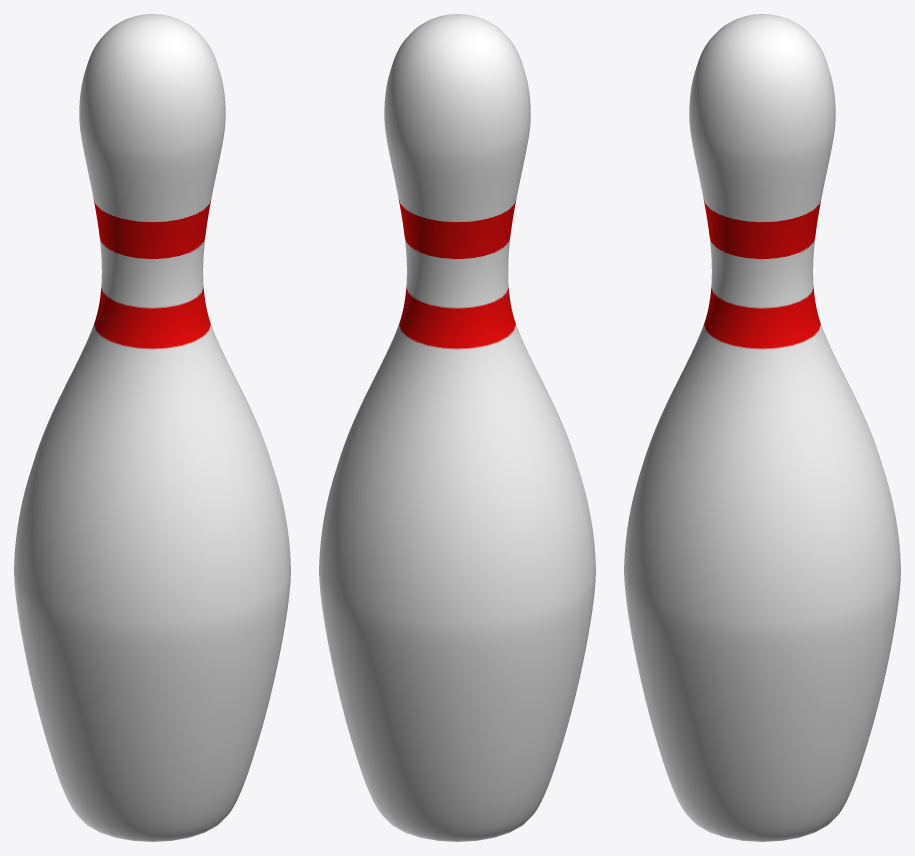
File: bowling_pins.obj
The picture shows the model from 3 angles, left to right: view 1: azimuth 30°, elevation 25°; view 2: azimuth 150°, elevation 25°; view 3: azimuth 270°, elevation 25°; orthographic projection.
Parts seen in each view (by area): view 1: High:Poly:Pin; view 2: High:Poly:Pin; view 3: High:Poly:Pin.
Boxes of the visible parts, x1,y1,x2,y2 form: High:Poly:Pin: [14, 14, 290, 841]; High:Poly:Pin: [319, 14, 595, 841]; High:Poly:Pin: [624, 14, 900, 841].
Bounding box in the file's own units: 11.43 × 36.03 × 11.43.
Materials: 1 (1 with a texture image).
